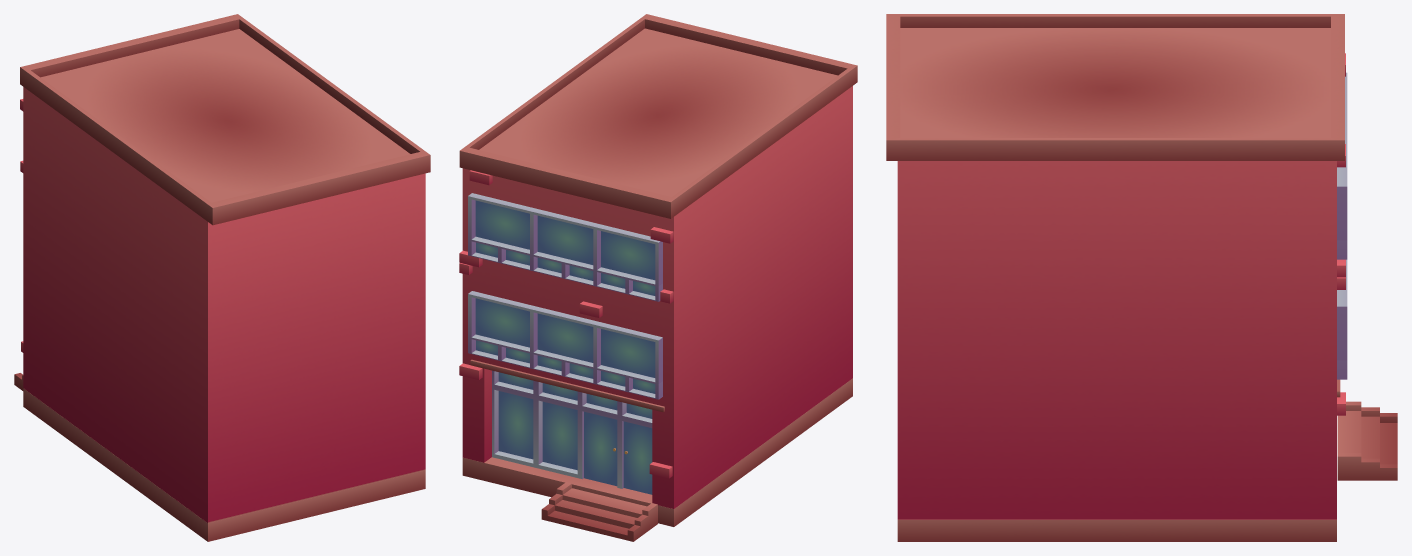
3 renders of one model, left to right at view 1: azimuth 30°, elevation 25°; view 2: azimuth 150°, elevation 25°; view 3: azimuth 270°, elevation 25°, orthographic. The views are drawn at different scales.
Parts seen in each view (by area): view 1: SM_3F_R_01; view 2: SM_3F_R_01; view 3: SM_3F_R_01.
Boxes of the visible parts, left/top/right/bottom form: SM_3F_R_01: left=14, top=14, right=430, bottom=541; SM_3F_R_01: left=459, top=14, right=857, bottom=541; SM_3F_R_01: left=886, top=14, right=1397, bottom=541.
Size of the model in its own units: 7.71 by 13.17 by 11.44.
